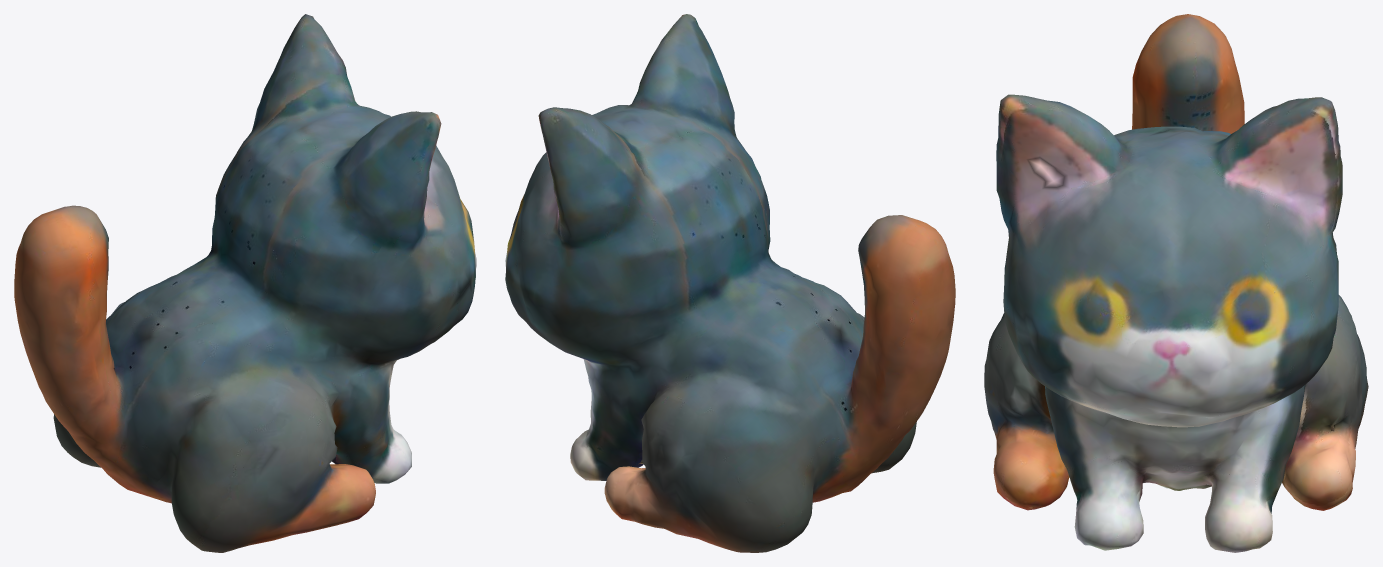
Rendered from cat.glb.
3 renders of one model, left to right at view 1: azimuth 30°, elevation 25°; view 2: azimuth 150°, elevation 25°; view 3: azimuth 270°, elevation 25°, orthographic. The views are drawn at different scales.
Visible parts, largest first — view 1: Mesh1; view 2: Mesh1; view 3: Mesh1.
Part boxes in pixels (x1,y1,x2,y2): Mesh1: (14, 14, 476, 552); Mesh1: (505, 14, 955, 552); Mesh1: (984, 14, 1368, 552).
Bounding box in the file's own units: 1.2 × 1.06 × 0.7934.
1 material, 1 textured.
